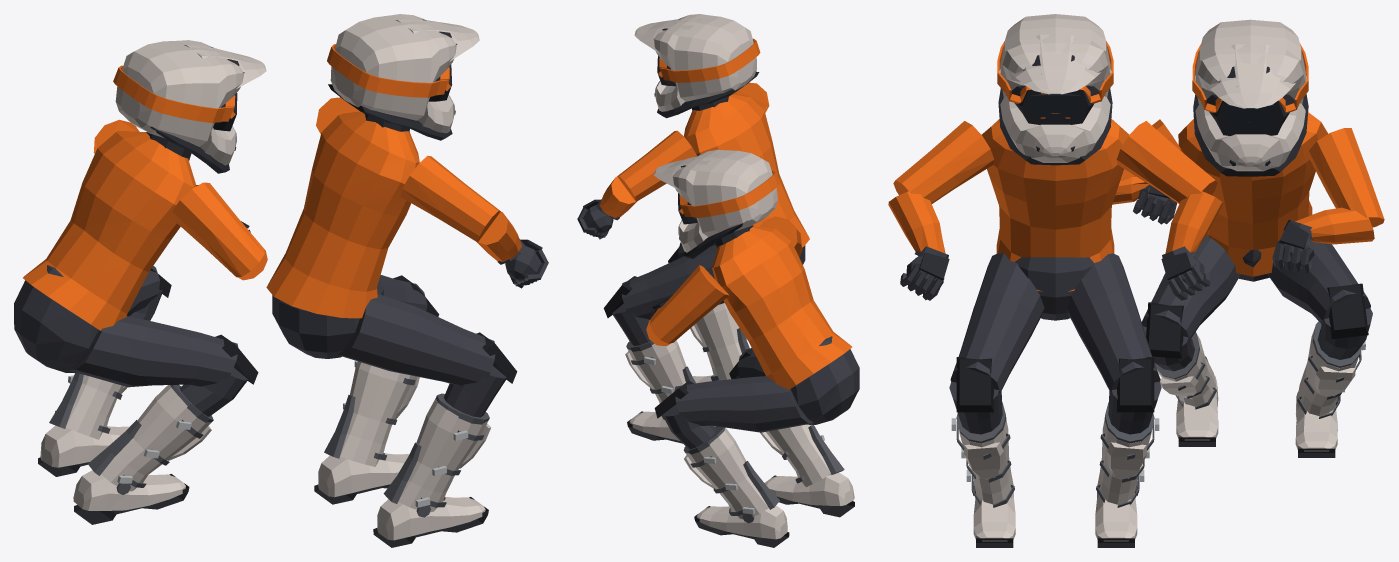
File: sidecar_crew.glb
3 renders of one model, left to right at view 1: azimuth 30°, elevation 25°; view 2: azimuth 150°, elevation 25°; view 3: azimuth 270°, elevation 25°, orthographic. The views are drawn at different scales.
Visible parts, largest first — view 1: Rider, Passenger; view 2: Passenger, Rider; view 3: Rider, Passenger.
Boxes of the visible parts, box(x1,y1,x2,y2) form: Rider: box(266, 14, 548, 547); Passenger: box(14, 40, 267, 524); Passenger: box(646, 149, 859, 547); Rider: box(577, 14, 809, 443); Rider: box(888, 14, 1222, 547); Passenger: box(1112, 19, 1384, 457).
Size of the model in its own units: 1.15 by 1.47 by 1.33.
